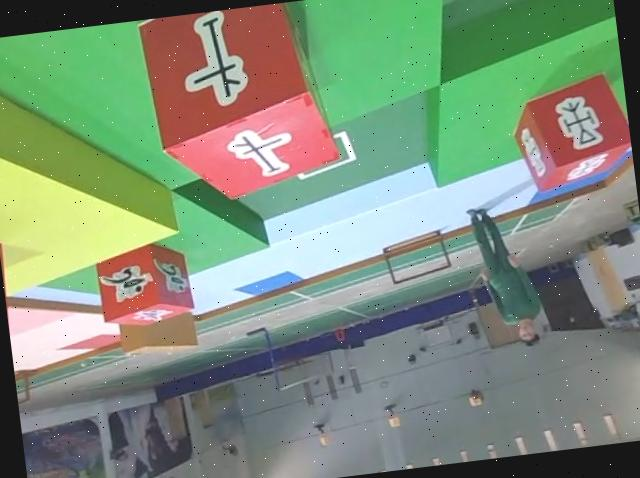R1: (90, 234, 196, 335)
R2 Real: (136, 0, 341, 212), (504, 67, 636, 201)
